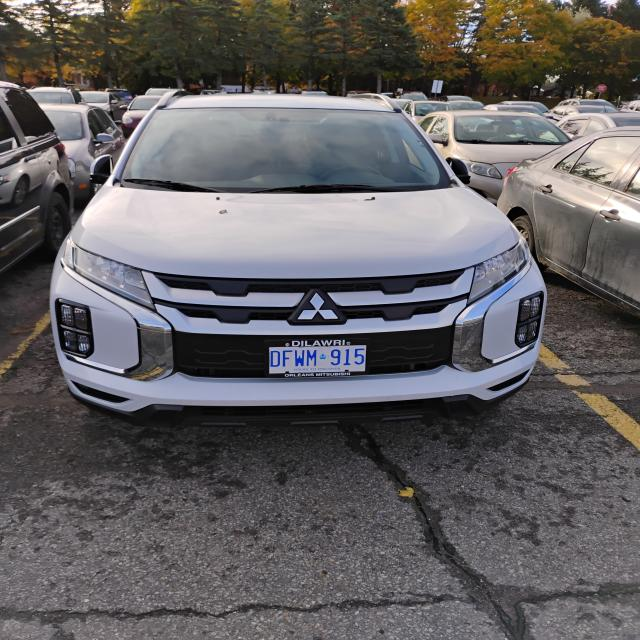plaque: (267, 338, 367, 378)
